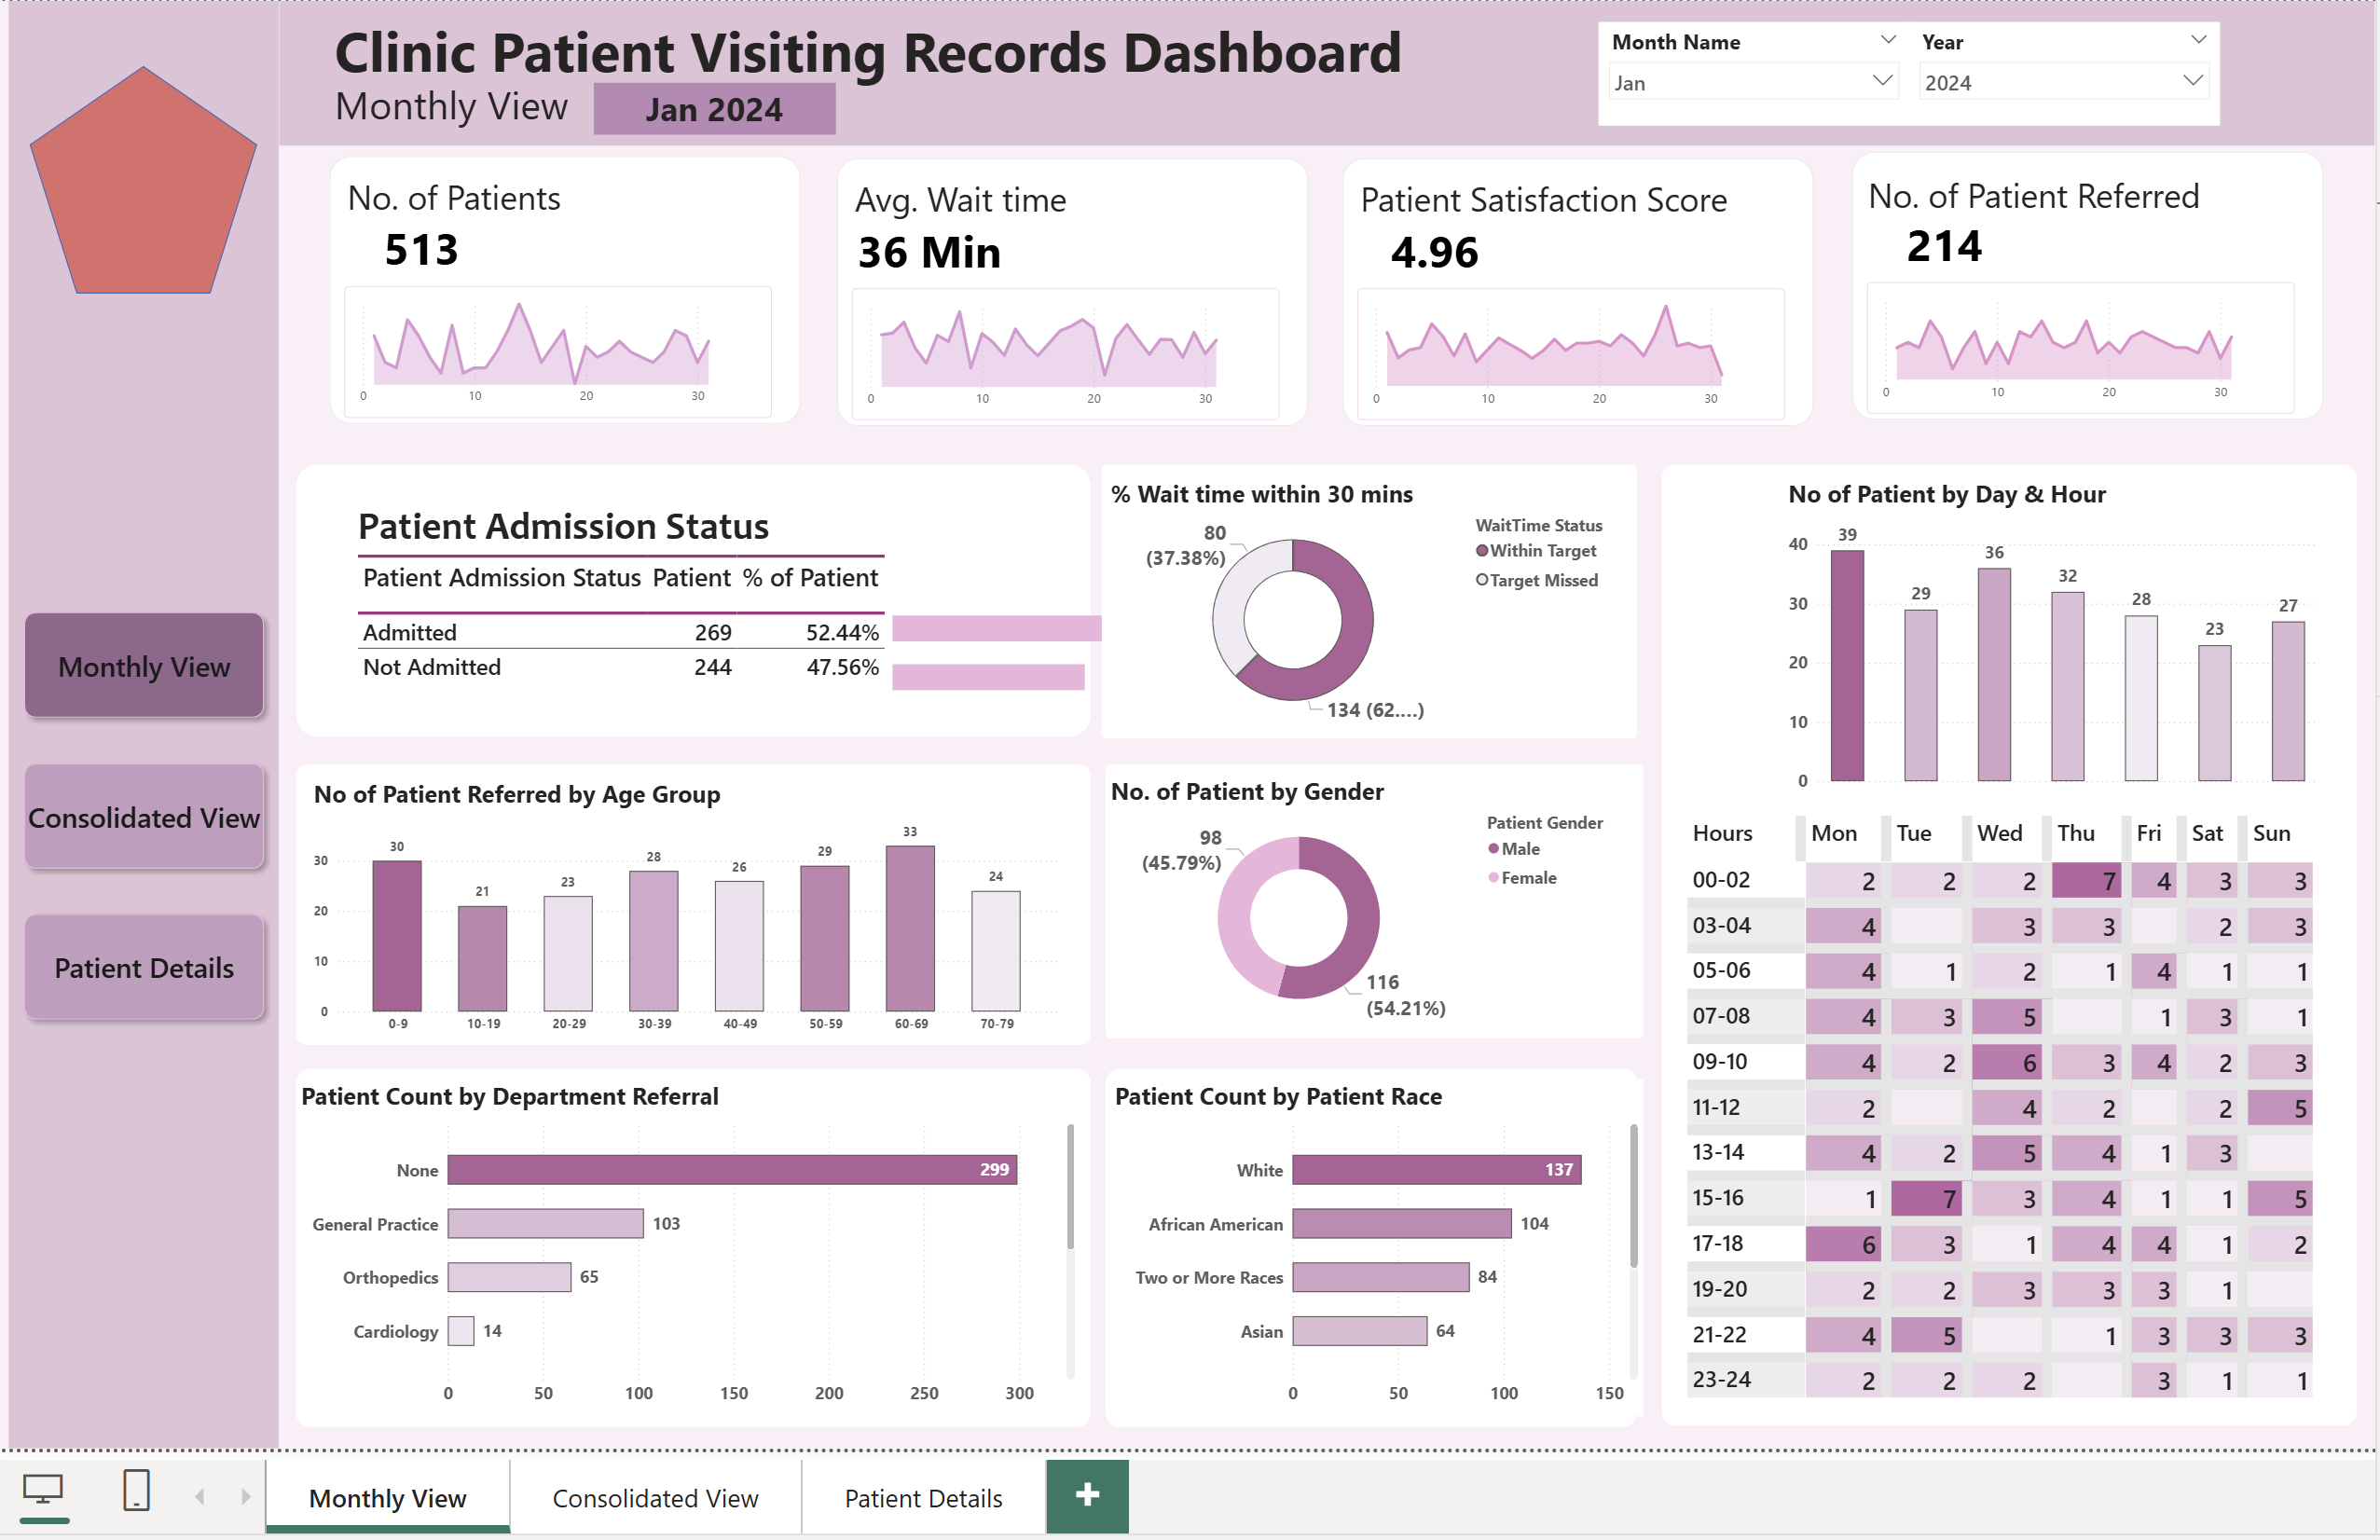

The dashboard page shown, as its layout file describes it:
{"tool":"powerbi","page":{"name":"Page 1","canvas":[2300,1400],"ordinal":0},"visuals":[{"type":"shape","box":[10.5,0,310,1400.4],"z":0},{"type":"shape","box":[330,157,455.6,259.2],"z":0,"group":"g1"},{"type":"shape","box":[1836.9,159.1,455.6,259.2],"z":0,"group":"g4"},{"type":"shape","box":[1334.6,161.2,455.6,259.2],"z":0,"group":"g3"},{"type":"shape","box":[832.3,163.3,455.6,259.2],"z":0,"group":"g2"},{"type":"shape","box":[319.8,0,1979.3,140],"z":1000},{"type":"card","fields":{"Values":["Hospital ER_Data.Patient Count"]},"box":[339.4,209.6,158.8,71.1],"z":1000,"group":"g1"},{"type":"card","fields":{"Values":["Hospital ER_Data.No of Patient Referred"]},"box":[1846.3,211.7,158.8,71.1],"z":1000,"group":"g4"},{"type":"card","fields":{"Values":["Hospital ER_Data.Avg Patient Satisfaction Score"]},"box":[1344,213.8,158.8,71.1],"z":1000,"group":"g3"},{"type":"card","fields":{"Values":["Hospital ER_Data.Avg Patient Wait Time"]},"box":[841.7,215.9,158.8,71.1],"z":1000,"group":"g2"},{"type":"textbox","box":[319.8,6.3,1904.1,98.2],"z":2000},{"type":"textbox","box":[341.5,169.9,236.2,83.6],"z":2000,"group":"g1"},{"type":"textbox","box":[1345.8,173.4,415.9,83.6],"z":2000,"group":"g3"},{"type":"textbox","box":[1847.5,173.6,384.6,81.5],"z":2000,"group":"g4"},{"type":"textbox","box":[843.8,176.2,236.2,83.6],"z":2000,"group":"g2"},{"type":"textbox","box":[319.8,69,290.5,69],"z":3000},{"type":"lineChart","fields":{"Category":["Date Table.Date.Variation.Date Hierarchy.Day"],"Y":["Hospital ER_Data.Patient Count"]},"box":[343.6,282.7,413.8,127.5],"z":3000,"group":"g1"},{"type":"lineChart","fields":{"Category":["Date Table.Date.Variation.Date Hierarchy.Day"],"Y":["Hospital ER_Data.No of Patient Referred"]},"box":[1850.5,284.8,413.8,127.5],"z":3000,"group":"g4"},{"type":"lineChart","fields":{"Category":["Date Table.Date.Variation.Date Hierarchy.Day"],"Y":["Avg(Hospital ER_Data.Patient Satisfaction Score)"]},"box":[1348.2,286.9,413.8,127.5],"z":3000,"group":"g3"},{"type":"lineChart","fields":{"Category":["Date Table.Date.Variation.Date Hierarchy.Day"],"Y":["Avg(Hospital ER_Data.Patient Waittime)"]},"box":[845.9,289,413.8,127.5],"z":3000,"group":"g2"},{"type":"slicer","fields":{"Values":["Date Table.Month Name"]},"box":[1548.7,20.9,301,100.3],"z":4000},{"type":"slicer","fields":{"Values":["Date Table.Year"]},"box":[1849.7,20.9,301,100.3],"z":5000},{"type":"group","id":"g1","title":"Group 1","box":[330,157,455.6,259.2],"z":6000},{"type":"group","id":"g2","title":"Group 1","box":[832.3,163.3,455.6,259.2],"z":7000},{"type":"group","id":"g3","title":"Group 1","box":[1334.6,161.2,455.6,259.2],"z":8000},{"type":"group","id":"g4","title":"Group 1","box":[1836.9,159.1,455.6,259.2],"z":9000},{"type":"card","fields":{"Values":["Min(Date Table.Month & Year)"]},"box":[576.9,79.4,234.1,50.2],"z":10000},{"type":"shape","box":[330.2,451.5,769.1,263.3],"z":11000},{"type":"pivotTable","title":"Patient Admission Status","fields":{"Rows":["Hospital ER_Data.Patient Admission Status"],"Values":["Hospital ER_Data.Patient Count1","Hospital ER_Data.Patient Count"]},"box":[342.8,484.9,551.8,196.5],"z":11001},{"type":"barChart","fields":{"Category":["Hospital ER_Data.Patient Admission Status"],"Y":["Hospital ER_Data.Patient Count"]},"box":[861.2,558.8,238.8,141.2],"z":11002}]}

Visuals, with their boxes on the page's 2300x1400 design canvas (x1, y1, x2, y2). These are canvas units, not pixel positions in the 2380x1540 screenshot, which may show the page scaled, cropped or inside an application window:
shape: box(10, 0, 320, 1400)
shape: box(330, 157, 786, 416)
shape: box(1837, 159, 2292, 418)
shape: box(1335, 161, 1790, 420)
shape: box(832, 163, 1288, 422)
shape: box(320, 0, 2299, 140)
card - Hospital ER_Data.Patient Count: box(339, 210, 498, 281)
card - Hospital ER_Data.No of Patient Referred: box(1846, 212, 2005, 283)
card - Hospital ER_Data.Avg Patient Satisfaction Score: box(1344, 214, 1503, 285)
card - Hospital ER_Data.Avg Patient Wait Time: box(842, 216, 1000, 287)
textbox: box(320, 6, 2224, 104)
textbox: box(342, 170, 578, 254)
textbox: box(1346, 173, 1762, 257)
textbox: box(1848, 174, 2232, 255)
textbox: box(844, 176, 1080, 260)
textbox: box(320, 69, 610, 138)
lineChart - Date Table.Date.Variation.Date Hierarchy.Day x Hospital ER_Data.Patient Count: box(344, 283, 757, 410)
lineChart - Date Table.Date.Variation.Date Hierarchy.Day x Hospital ER_Data.No of Patient Referred: box(1850, 285, 2264, 412)
lineChart - Date Table.Date.Variation.Date Hierarchy.Day x Avg(Hospital ER_Data.Patient Satisfaction Score): box(1348, 287, 1762, 414)
lineChart - Date Table.Date.Variation.Date Hierarchy.Day x Avg(Hospital ER_Data.Patient Waittime): box(846, 289, 1260, 416)
slicer - Date Table.Month Name: box(1549, 21, 1850, 121)
slicer - Date Table.Year: box(1850, 21, 2151, 121)
"Group 1" group: box(330, 157, 786, 416)
"Group 1" group: box(832, 163, 1288, 422)
"Group 1" group: box(1335, 161, 1790, 420)
"Group 1" group: box(1837, 159, 2292, 418)
card - Min(Date Table.Month & Year): box(577, 79, 811, 130)
shape: box(330, 452, 1099, 715)
"Patient Admission Status" pivotTable: box(343, 485, 895, 681)
barChart - Hospital ER_Data.Patient Admission Status x Hospital ER_Data.Patient Count: box(861, 559, 1100, 700)
